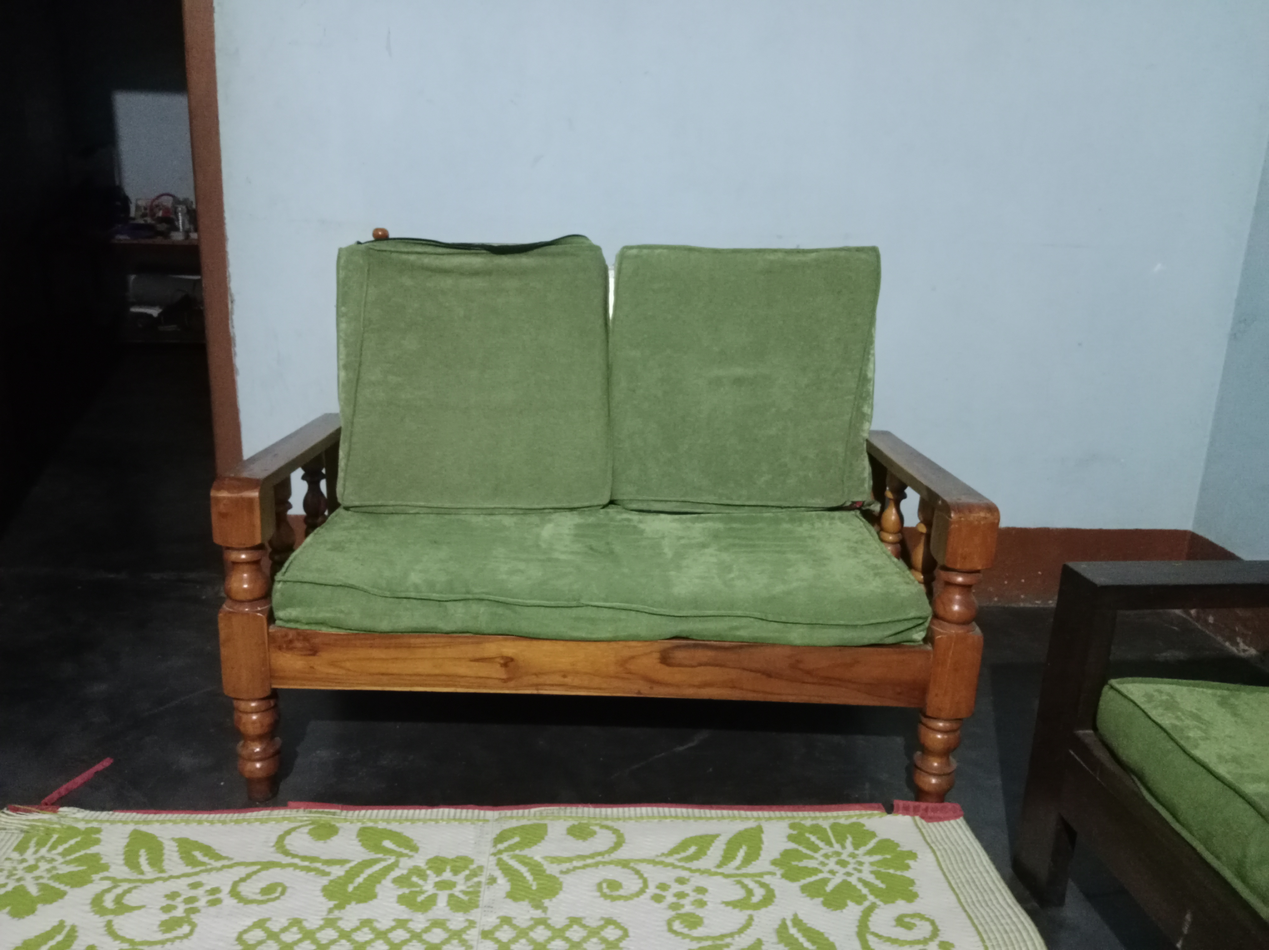sofa: (210, 236, 999, 808)
